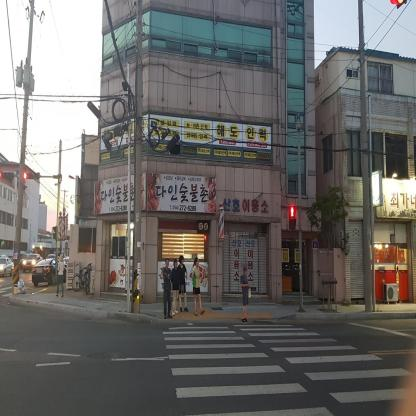Red: (289, 205, 296, 230)
